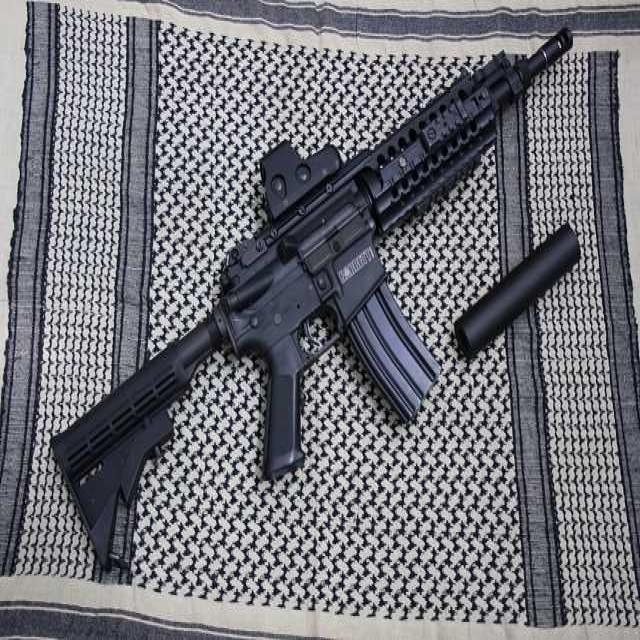heavyweapon: (42, 3, 588, 574)
